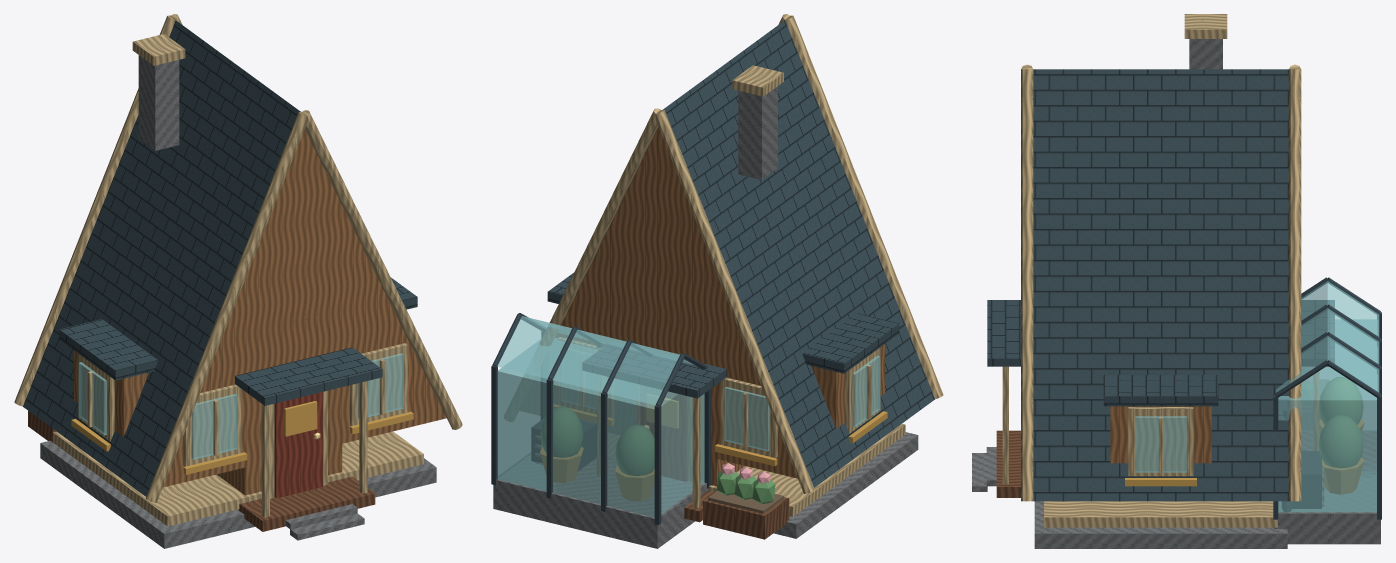
The model's file is house_aframe_lv3_greenhouse.glb.
3 views of the same model, side by side, from view 1: azimuth 30°, elevation 25°; view 2: azimuth 150°, elevation 25°; view 3: azimuth 270°, elevation 25° (orthographic). The views are drawn at different scales.
Parts seen in each view (by area): view 1: steep_roof, a_frame_gables, floor_trim, foundation, a_frame_edge, front_porch_canopy, a_frame_edge.002, front_door, walls, chimney, a_frame_edge.001, front_window_frame (+16 smaller); view 2: steep_roof, a_frame_gables, greenhouse_glazing, greenhouse_plinth, greenhouse_roof, a_frame_edge.001, a_frame_edge, back_porch_canopy, chimney, foundation, left_dormer_cap, back_window_frame (+25 smaller); view 3: steep_roof.001, greenhouse_glazing, floor_trim, a_frame_edge.003, foundation, greenhouse_roof, a_frame_edge.002, right_window_frame, greenhouse_plinth, right_dormer_cap, right_window_glass, front_porch_canopy (+13 smaller).
Boxes of the visible parts, <box> form: steep_roof: <box>23,20,300,496</box>; a_frame_gables: <box>163,129,446,487</box>; floor_trim: <box>53,431,423,526</box>; foundation: <box>40,440,436,548</box>; a_frame_edge: <box>145,112,307,502</box>; front_porch_canopy: <box>235,347,382,405</box>; a_frame_edge.002: <box>301,110,462,429</box>; front_door: <box>274,392,323,498</box>; walls: <box>217,281,342,495</box>; chimney: <box>138,55,179,150</box>; a_frame_edge.001: <box>14,15,175,406</box>; front_window_frame: <box>183,384,241,466</box>; steep_roof: <box>663,20,934,487</box>; a_frame_gables: <box>555,127,797,478</box>; greenhouse_glazing: <box>497,338,704,516</box>; greenhouse_plinth: <box>493,458,707,548</box>; greenhouse_roof: <box>497,316,693,404</box>; a_frame_edge.001: <box>656,110,814,493</box>; a_frame_edge: <box>785,15,943,399</box>; back_porch_canopy: <box>582,344,726,398</box>; chimney: <box>738,86,777,179</box>; foundation: <box>774,432,918,538</box>; left_dormer_cap: <box>802,313,899,373</box>; back_window_frame: <box>720,377,777,457</box>; steep_roof.001: <box>1033,69,1288,501</box>; greenhouse_glazing: <box>1278,319,1377,512</box>; floor_trim: <box>1044,501,1277,527</box>; a_frame_edge.003: <box>1288,69,1301,501</box>; foundation: <box>1034,501,1287,548</box>; greenhouse_roof: <box>1276,281,1379,392</box>; a_frame_edge.002: <box>1021,69,1033,501</box>; right_window_frame: <box>1128,407,1193,476</box>; greenhouse_plinth: <box>1274,431,1380,544</box>; right_dormer_cap: <box>1103,375,1218,406</box>; right_window_glass: <box>1135,416,1186,472</box>; front_porch_canopy: <box>987,300,1020,366</box>.
Size of the model in its own units: 3.3 by 4.22 by 3.64.
13 materials, 7 textured.
